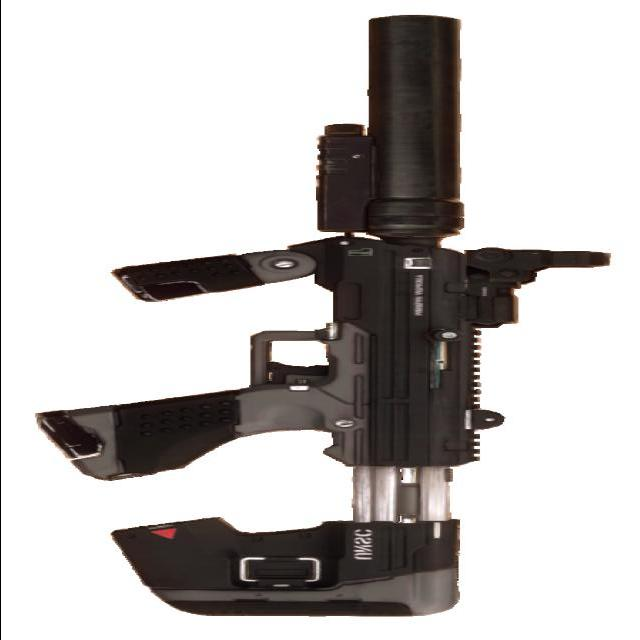rifle: (43, 4, 507, 626)
scope: (458, 235, 626, 341)
